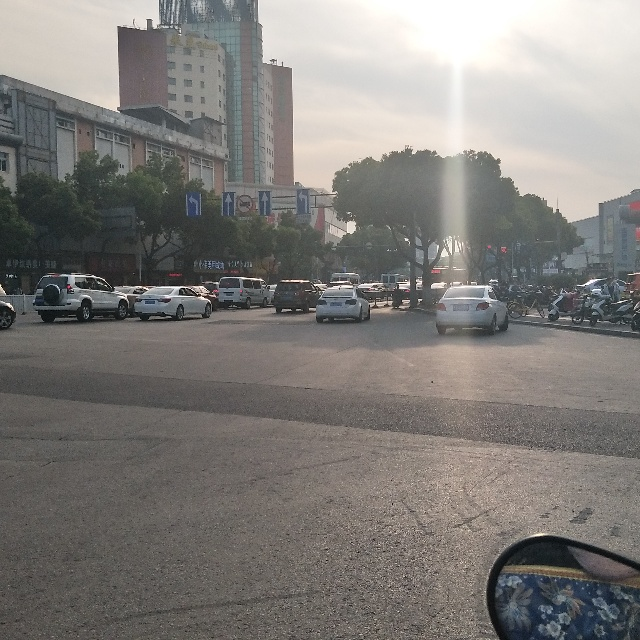left: (185, 192, 201, 216), (296, 190, 310, 214)
straight: (221, 192, 235, 216), (258, 191, 272, 215)
